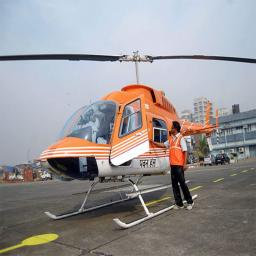helicopter: (15, 43, 238, 239)
